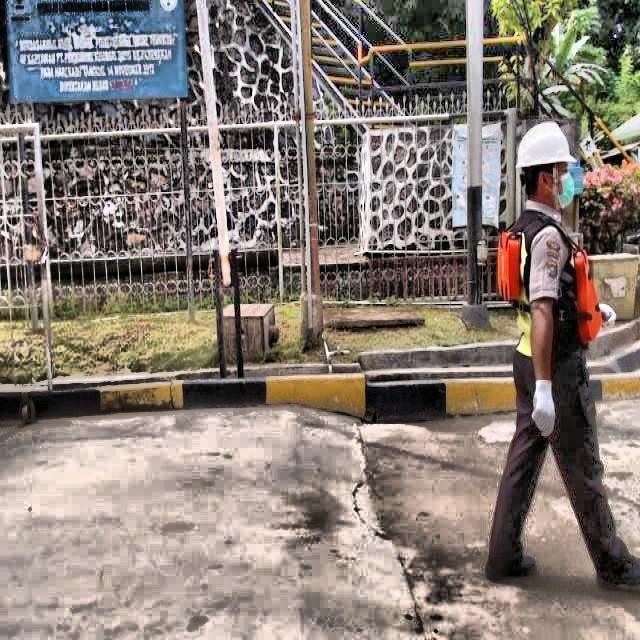safety_helmet: (518, 116, 579, 171)
safety_jacket: (494, 221, 603, 357)
